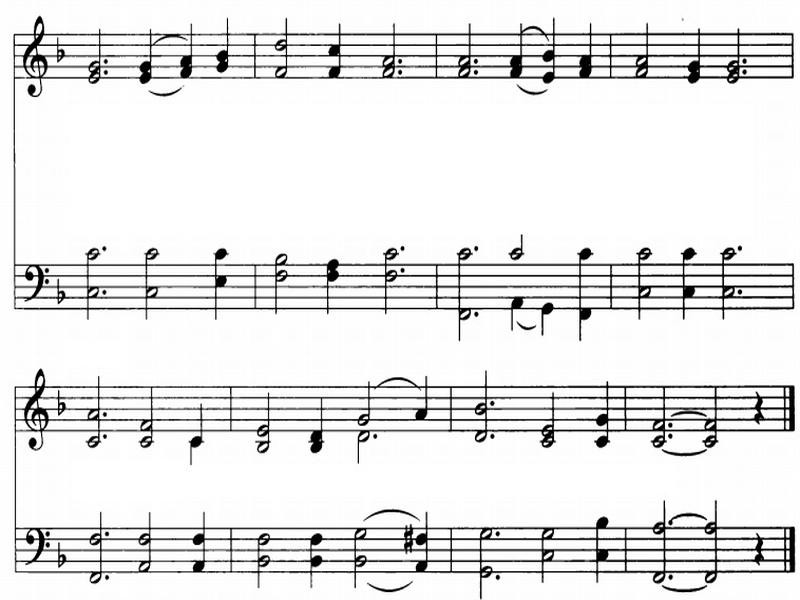B: (249, 384, 287, 459), (528, 517, 564, 584), (634, 239, 660, 330), (133, 241, 161, 324), (644, 490, 668, 586), (466, 516, 496, 592), (623, 16, 656, 85), (266, 248, 292, 330), (244, 526, 277, 588), (646, 381, 671, 453), (270, 3, 293, 79), (76, 22, 103, 83), (130, 514, 157, 575), (80, 371, 100, 452), (705, 377, 727, 449), (536, 384, 558, 454), (713, 244, 733, 318), (705, 499, 722, 584), (138, 378, 157, 452), (88, 506, 106, 584), (377, 14, 398, 78), (475, 358, 490, 442), (456, 15, 474, 82), (348, 528, 367, 588), (84, 244, 98, 321), (354, 375, 376, 424), (454, 238, 468, 303), (349, 428, 372, 464), (452, 306, 469, 339), (510, 234, 527, 260)
Bem: (47, 37, 72, 63), (53, 274, 72, 304), (54, 538, 71, 571), (53, 387, 70, 418)
CF: (17, 253, 51, 323), (20, 518, 48, 577)
CS: (11, 7, 56, 112), (17, 365, 55, 453)
N: (297, 390, 336, 459), (568, 242, 594, 337), (201, 244, 230, 324), (682, 20, 712, 87), (324, 18, 353, 87), (186, 506, 214, 577), (213, 1, 239, 77), (543, 2, 565, 88), (590, 515, 617, 584), (575, 16, 601, 86), (407, 374, 444, 422), (677, 239, 697, 326), (415, 503, 438, 576), (323, 254, 346, 326), (181, 396, 212, 448), (505, 14, 529, 81), (177, 13, 199, 84), (131, 22, 155, 86), (595, 378, 618, 444), (305, 525, 329, 584), (535, 292, 561, 337), (497, 292, 524, 334), (175, 437, 206, 471)
P: (734, 235, 747, 254), (474, 242, 488, 256), (736, 284, 753, 295), (104, 530, 117, 544), (101, 429, 113, 443), (494, 574, 507, 586), (396, 266, 413, 275), (98, 411, 112, 421), (487, 433, 499, 444), (484, 398, 505, 404), (396, 244, 410, 253), (470, 309, 481, 320), (740, 68, 752, 78), (667, 432, 677, 443), (99, 290, 111, 299), (493, 530, 504, 539), (397, 56, 406, 67), (470, 69, 479, 80), (740, 57, 749, 68), (103, 67, 110, 81), (370, 433, 383, 440), (392, 70, 404, 77), (668, 574, 676, 584), (103, 244, 111, 253), (475, 55, 481, 67), (101, 60, 111, 67), (667, 521, 677, 528), (666, 417, 672, 428), (104, 574, 111, 583)
SN: (749, 376, 769, 424), (747, 530, 767, 566)
SOS: (395, 520, 417, 554)
